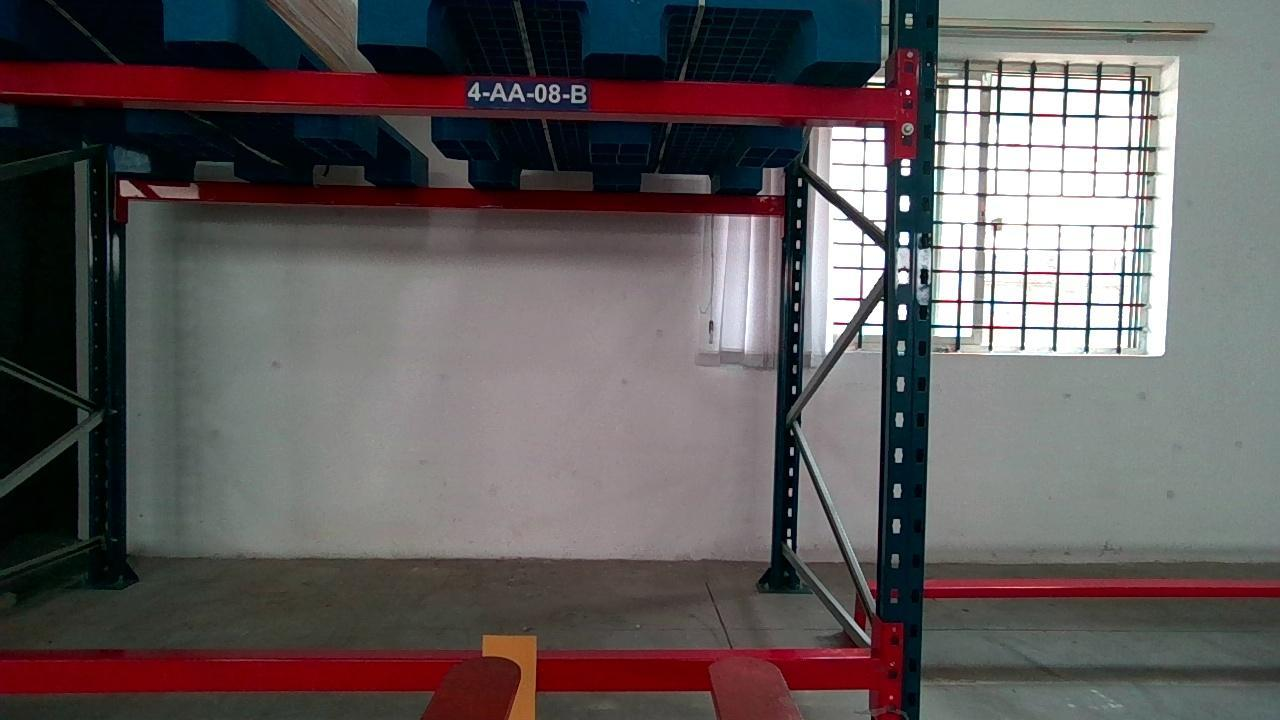h_rack: (1, 60, 899, 122), (2, 655, 876, 690)
orange_strip: (482, 635, 536, 720)
